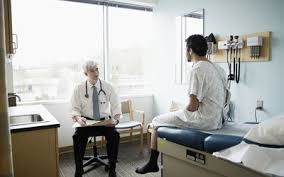Caution: (71, 34, 226, 177)
